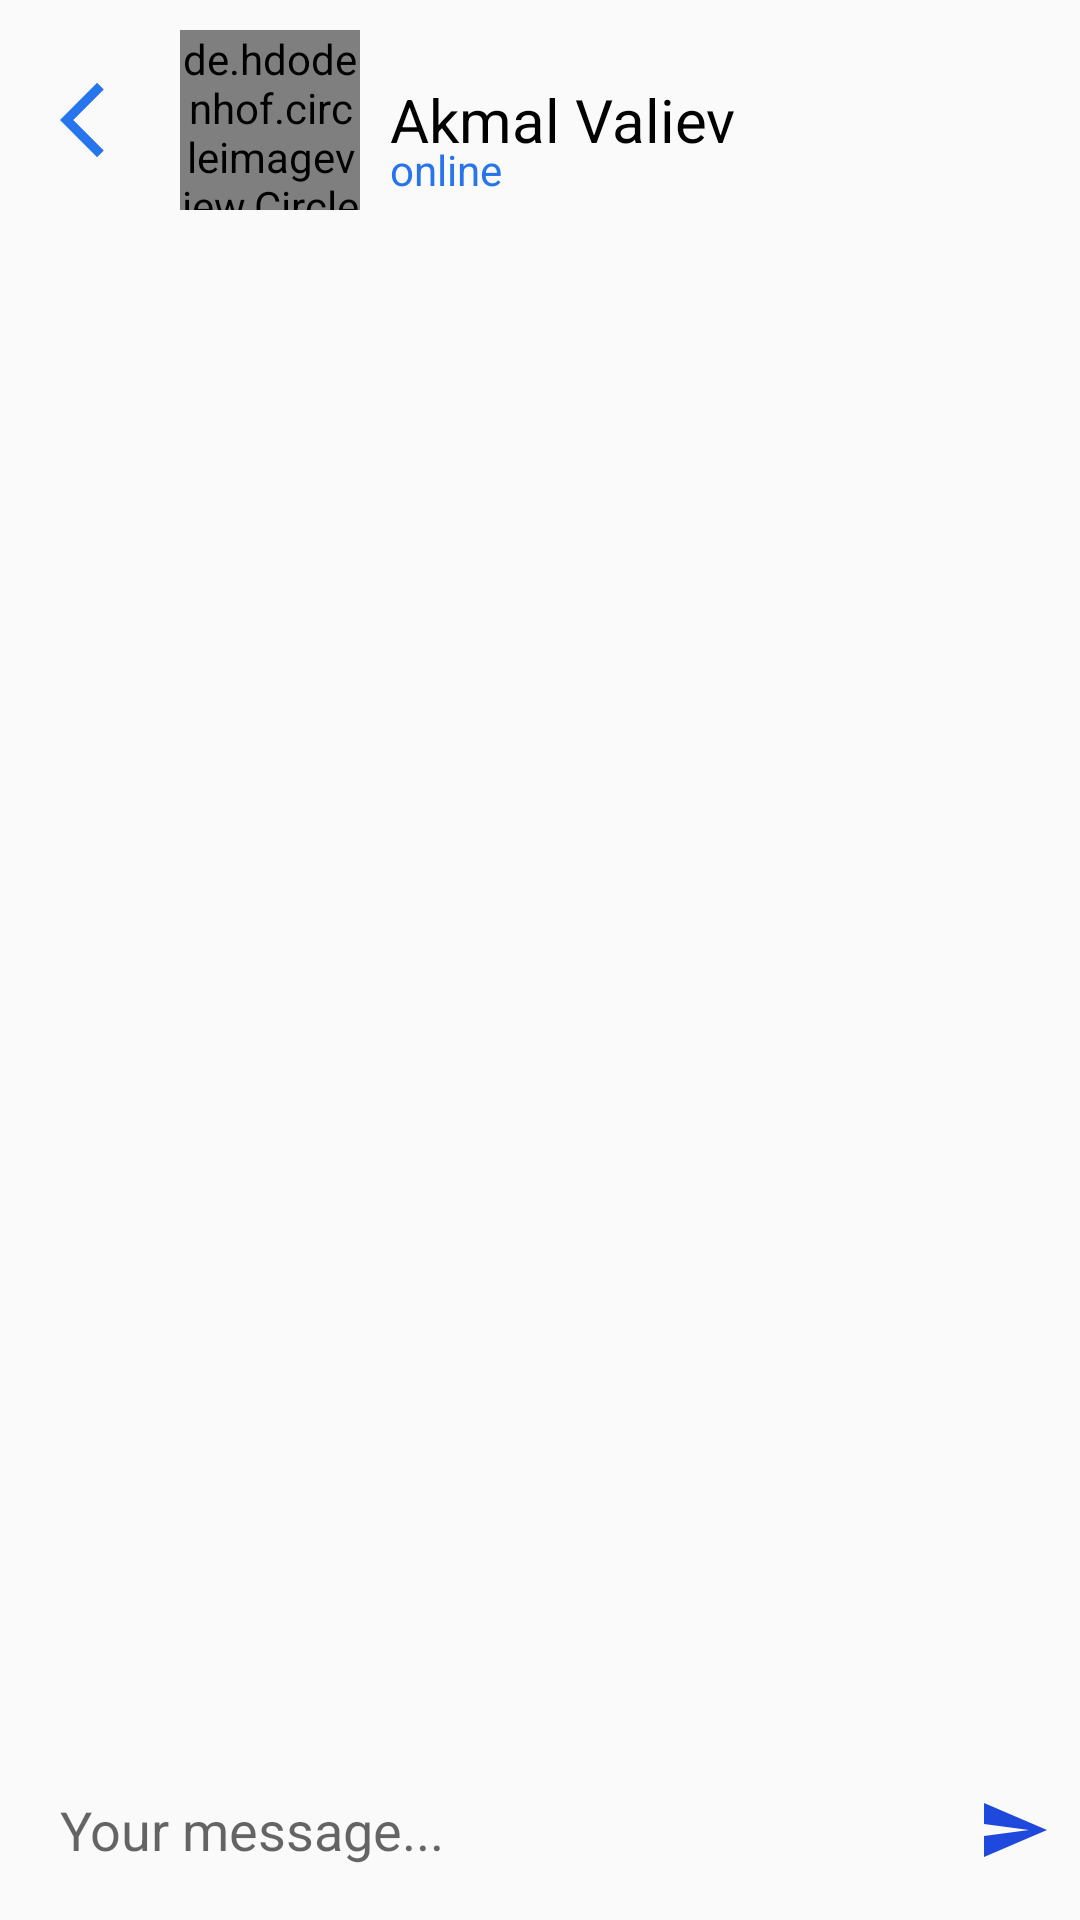

Named icons in this screenshot (1080 x 1920) and their centers, [x,y]:
arrow back: [82,120]
send: [1015,1830]
